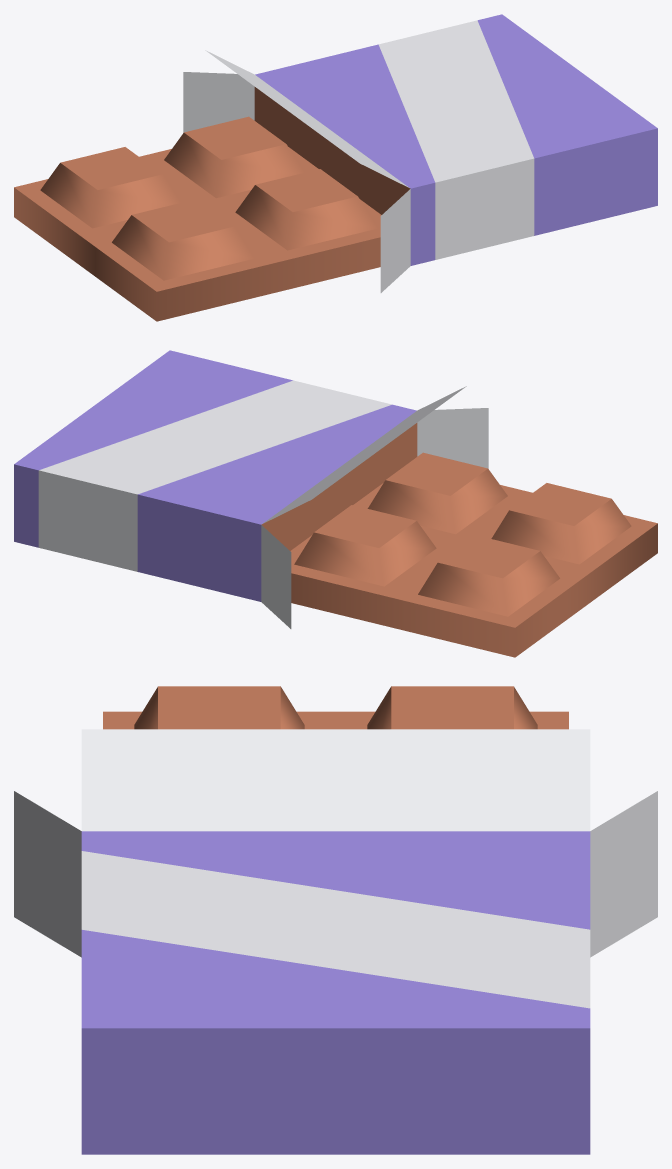
The model's file is chocolateWrapper.dae.
The picture shows the model from 3 angles, top to bottom: view 1: azimuth 30°, elevation 25°; view 2: azimuth 150°, elevation 25°; view 3: azimuth 270°, elevation 25°; orthographic projection. The views are drawn at different scales.
Parts seen in each view (by area): view 1: chocolateWrapper; view 2: chocolateWrapper; view 3: chocolateWrapper.
Part boxes in pixels (<box>): chocolateWrapper: <box>14,14,657,321</box>; chocolateWrapper: <box>14,350,657,657</box>; chocolateWrapper: <box>14,686,657,1154</box>.
Size of the model in its own units: 0.2924 by 0.0649 by 0.202.
